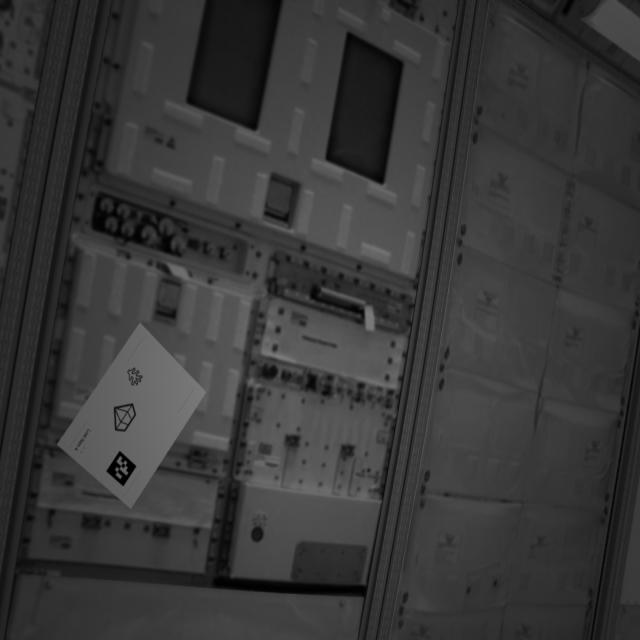diamond: (108, 396, 143, 435)
key: (123, 365, 151, 390)
